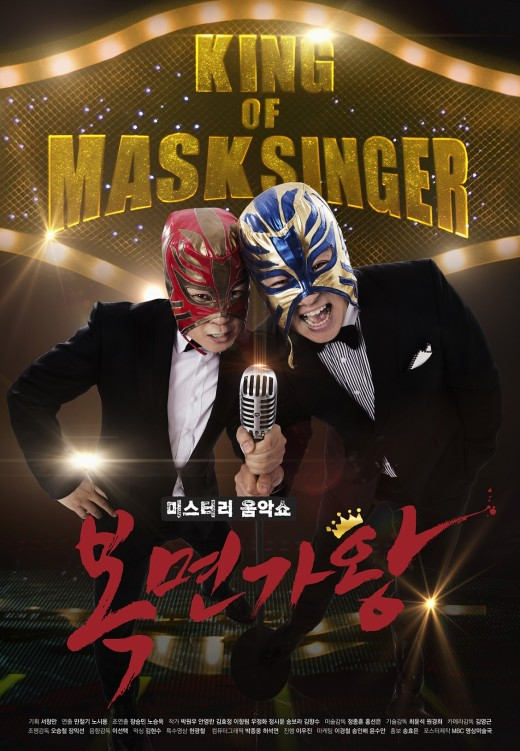face: (275, 239, 346, 345), (185, 254, 247, 354)
